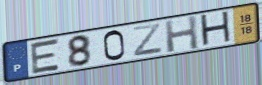0: (102, 29, 126, 62)
8: (66, 33, 93, 68)
E: (29, 37, 62, 76)
H: (163, 13, 201, 54), (198, 9, 234, 49)
Z: (131, 22, 165, 58)
